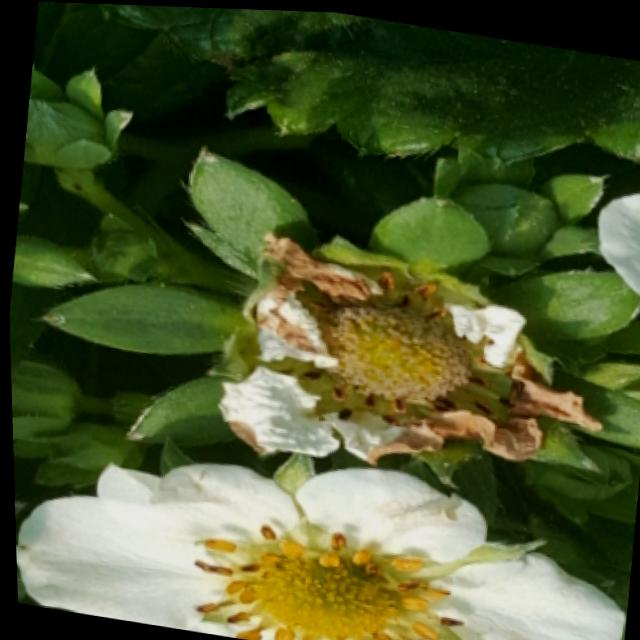Blossom Blight: (270, 263, 520, 423), (182, 515, 464, 640)
